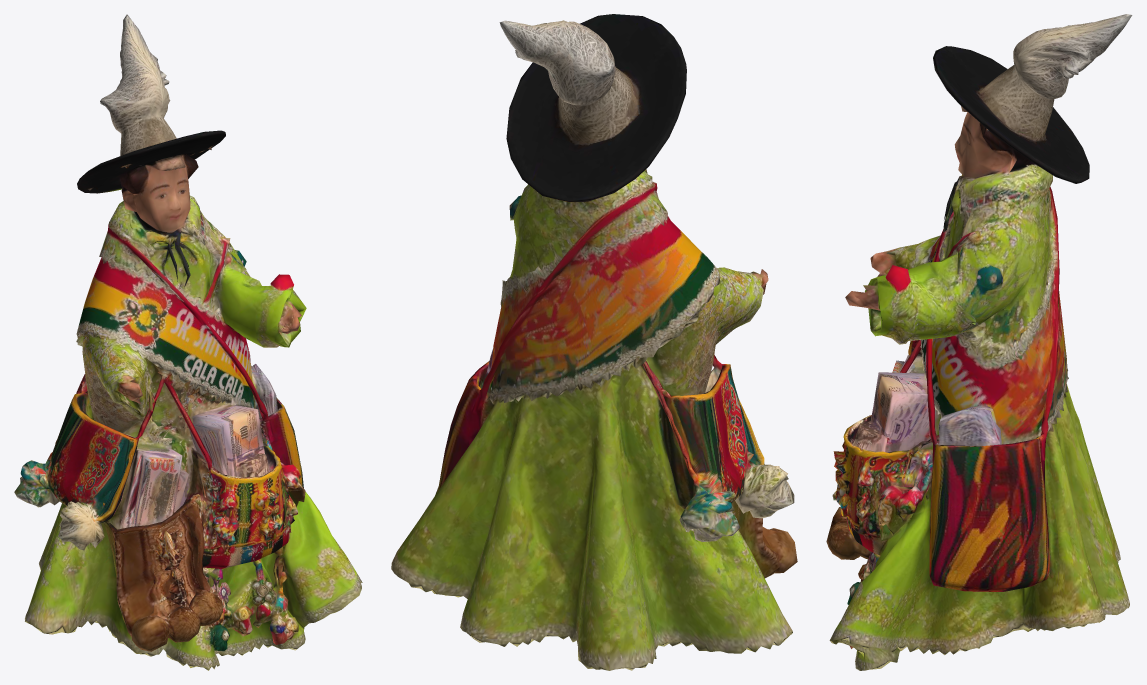
File: santo1.glb
3 renders of one model, left to right at view 1: azimuth 30°, elevation 25°; view 2: azimuth 150°, elevation 25°; view 3: azimuth 270°, elevation 25°, orthographic. The views are drawn at different scales.
Visible parts, largest first — view 1: tripo_node_528ad090-241b-4814-abf1-b906e102c8b3; view 2: tripo_node_528ad090-241b-4814-abf1-b906e102c8b3; view 3: tripo_node_528ad090-241b-4814-abf1-b906e102c8b3.
Part boxes in pixels (bbox=[...]): tripo_node_528ad090-241b-4814-abf1-b906e102c8b3: bbox=[14, 14, 362, 670]; tripo_node_528ad090-241b-4814-abf1-b906e102c8b3: bbox=[391, 14, 797, 670]; tripo_node_528ad090-241b-4814-abf1-b906e102c8b3: bbox=[826, 14, 1132, 670].
Size of the model in its own units: 6.86 by 13.11 by 5.77.
1 material, 1 textured.
